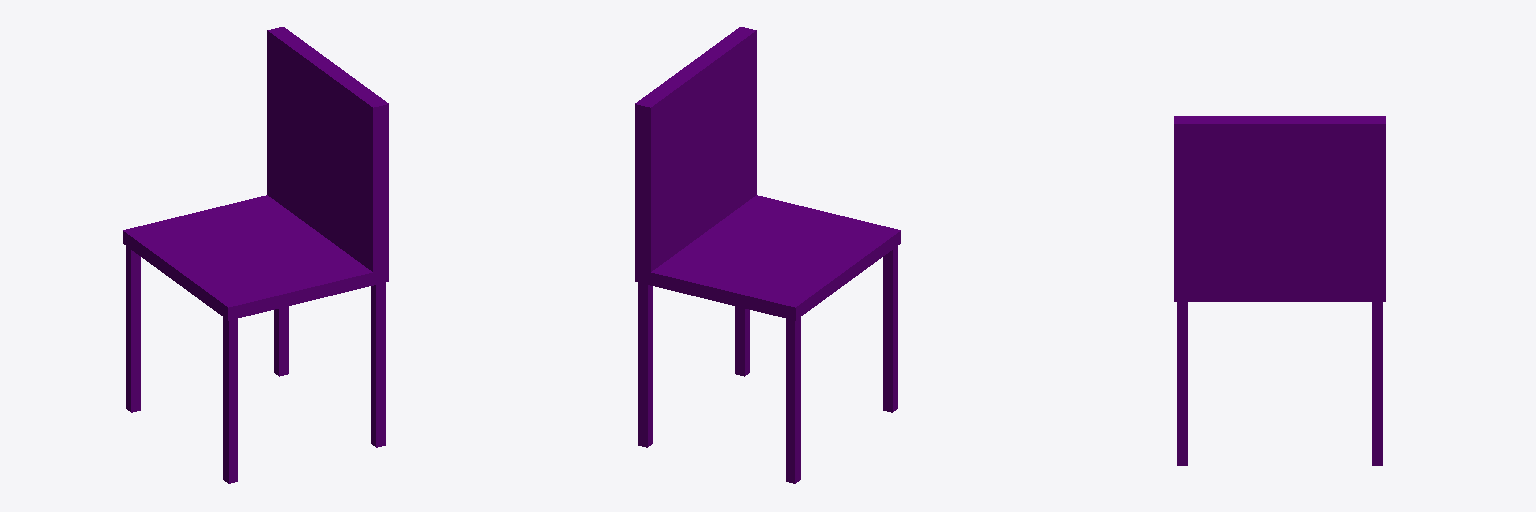
The model's file is chair_001.obj.
3 views of the same model, side by side, from view 1: azimuth 30°, elevation 25°; view 2: azimuth 150°, elevation 25°; view 3: azimuth 270°, elevation 25° (orthographic).
Parts seen in each view (by area): view 1: Box001; view 2: Box001; view 3: Box001.
Boxes of the visible parts, x1,y1,x2,y2 form: Box001: [123, 27, 388, 483]; Box001: [635, 27, 900, 483]; Box001: [1174, 116, 1385, 465].
Bounding box in the file's own units: 14.22 × 28.95 × 16.2.